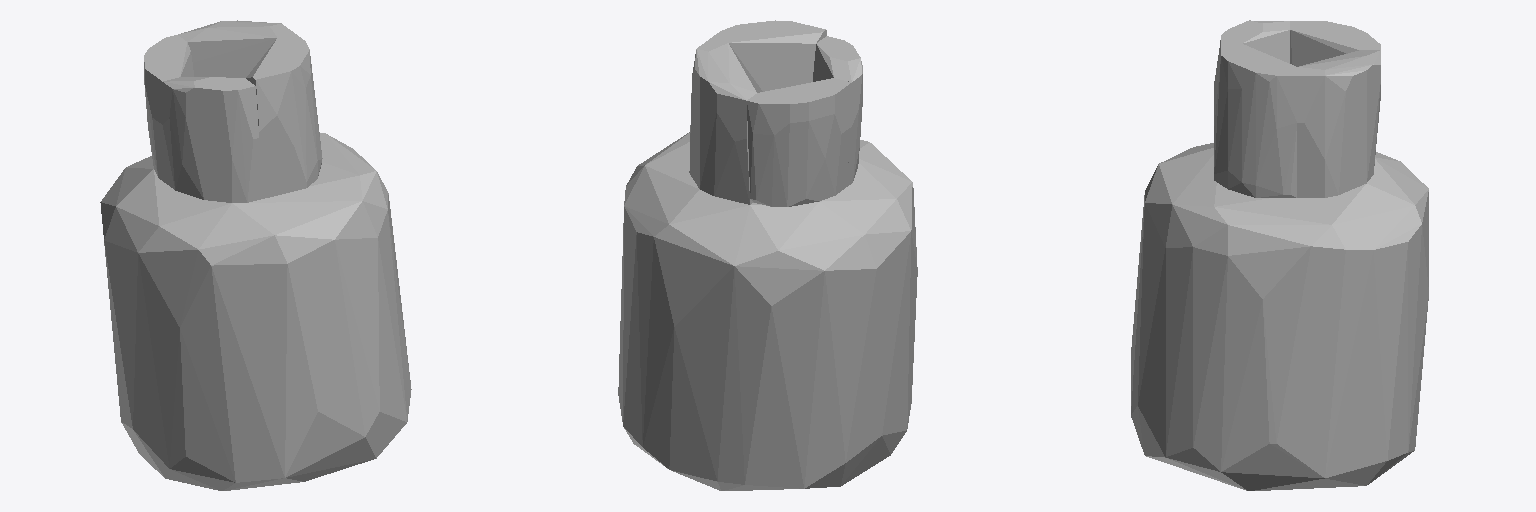
robot.urdf — root:
<robot name="root">
  <link name="link_thingiverse~arrow_knob_4200575_convex_piece_0">
    <inertial>
      <origin rpy="0 0 0" xyz="0 0 0"/>
      <mass value="2.13E-01"/>
      <inertia ixx="6.17E-05" ixy="-2.17E-07" ixz="-8.82E-07" iyy="6.17E-05" iyz="7.69E-07" izz="5.22E-05"/>
    </inertial>
    <visual>
      <origin rpy="0 0 0" xyz="0 0 0"/>
      <geometry>
        <mesh filename="thingiverse~arrow_knob_4200575_convex_piece_0.obj" scale="1.0000E+00 1.0000E+00 1.0000E+00"/>
      </geometry>
      <material name="">
        <color rgba="7.50E-01 7.50E-01 7.50E-01 1"/>
      </material>
    </visual>
    <collision>
      <origin rpy="0 0 0" xyz="0 0 0"/>
      <geometry>
        <mesh filename="thingiverse~arrow_knob_4200575_convex_piece_0.obj" scale="1.0000E+00 1.0000E+00 1.0000E+00"/>
      </geometry>
    </collision>
  </link>
  <link name="link_thingiverse~arrow_knob_4200575_convex_piece_1">
    <inertial>
      <origin rpy="0 0 0" xyz="0 0 0"/>
      <mass value="4.56E-03"/>
      <inertia ixx="4.86E-06" ixy="1.36E-07" ixz="-1.44E-06" iyy="5.24E-06" iyz="-5.09E-07" izz="5.72E-07"/>
    </inertial>
    <visual>
      <origin rpy="0 0 0" xyz="0 0 0"/>
      <geometry>
        <mesh filename="thingiverse~arrow_knob_4200575_convex_piece_1.obj" scale="1.0000E+00 1.0000E+00 1.0000E+00"/>
      </geometry>
      <material name="">
        <color rgba="7.50E-01 7.50E-01 7.50E-01 1"/>
      </material>
    </visual>
    <collision>
      <origin rpy="0 0 0" xyz="0 0 0"/>
      <geometry>
        <mesh filename="thingiverse~arrow_knob_4200575_convex_piece_1.obj" scale="1.0000E+00 1.0000E+00 1.0000E+00"/>
      </geometry>
    </collision>
  </link>
  <joint name="link_thingiverse~arrow_knob_4200575_convex_piece_1_joint" type="fixed">
    <origin rpy="0 0 0" xyz="0 0 0"/>
    <parent link="link_thingiverse~arrow_knob_4200575_convex_piece_0"/>
    <child link="link_thingiverse~arrow_knob_4200575_convex_piece_1"/>
  </joint>
  <link name="link_thingiverse~arrow_knob_4200575_convex_piece_2">
    <inertial>
      <origin rpy="0 0 0" xyz="0 0 0"/>
      <mass value="5.17E-03"/>
      <inertia ixx="5.77E-06" ixy="-4.07E-07" ixz="-1.68E-06" iyy="5.93E-06" iyz="1.37E-06" izz="9.86E-07"/>
    </inertial>
    <visual>
      <origin rpy="0 0 0" xyz="0 0 0"/>
      <geometry>
        <mesh filename="thingiverse~arrow_knob_4200575_convex_piece_2.obj" scale="1.0000E+00 1.0000E+00 1.0000E+00"/>
      </geometry>
      <material name="">
        <color rgba="7.50E-01 7.50E-01 7.50E-01 1"/>
      </material>
    </visual>
    <collision>
      <origin rpy="0 0 0" xyz="0 0 0"/>
      <geometry>
        <mesh filename="thingiverse~arrow_knob_4200575_convex_piece_2.obj" scale="1.0000E+00 1.0000E+00 1.0000E+00"/>
      </geometry>
    </collision>
  </link>
  <joint name="link_thingiverse~arrow_knob_4200575_convex_piece_2_joint" type="fixed">
    <origin rpy="0 0 0" xyz="0 0 0"/>
    <parent link="link_thingiverse~arrow_knob_4200575_convex_piece_1"/>
    <child link="link_thingiverse~arrow_knob_4200575_convex_piece_2"/>
  </joint>
  <link name="link_thingiverse~arrow_knob_4200575_convex_piece_3">
    <inertial>
      <origin rpy="0 0 0" xyz="0 0 0"/>
      <mass value="8.15E-03"/>
      <inertia ixx="8.85E-06" ixy="-1.79E-08" ixz="6.60E-07" iyy="8.84E-06" iyz="-9.45E-07" izz="3.74E-07"/>
    </inertial>
    <visual>
      <origin rpy="0 0 0" xyz="0 0 0"/>
      <geometry>
        <mesh filename="thingiverse~arrow_knob_4200575_convex_piece_3.obj" scale="1.0000E+00 1.0000E+00 1.0000E+00"/>
      </geometry>
      <material name="">
        <color rgba="7.50E-01 7.50E-01 7.50E-01 1"/>
      </material>
    </visual>
    <collision>
      <origin rpy="0 0 0" xyz="0 0 0"/>
      <geometry>
        <mesh filename="thingiverse~arrow_knob_4200575_convex_piece_3.obj" scale="1.0000E+00 1.0000E+00 1.0000E+00"/>
      </geometry>
    </collision>
  </link>
  <joint name="link_thingiverse~arrow_knob_4200575_convex_piece_3_joint" type="fixed">
    <origin rpy="0 0 0" xyz="0 0 0"/>
    <parent link="link_thingiverse~arrow_knob_4200575_convex_piece_2"/>
    <child link="link_thingiverse~arrow_knob_4200575_convex_piece_3"/>
  </joint>
  <link name="link_thingiverse~arrow_knob_4200575_convex_piece_4">
    <inertial>
      <origin rpy="0 0 0" xyz="0 0 0"/>
      <mass value="7.46E-03"/>
      <inertia ixx="8.62E-06" ixy="1.11E-07" ixz="5.81E-07" iyy="8.06E-06" iyz="2.21E-06" izz="8.63E-07"/>
    </inertial>
    <visual>
      <origin rpy="0 0 0" xyz="0 0 0"/>
      <geometry>
        <mesh filename="thingiverse~arrow_knob_4200575_convex_piece_4.obj" scale="1.0000E+00 1.0000E+00 1.0000E+00"/>
      </geometry>
      <material name="">
        <color rgba="7.50E-01 7.50E-01 7.50E-01 1"/>
      </material>
    </visual>
    <collision>
      <origin rpy="0 0 0" xyz="0 0 0"/>
      <geometry>
        <mesh filename="thingiverse~arrow_knob_4200575_convex_piece_4.obj" scale="1.0000E+00 1.0000E+00 1.0000E+00"/>
      </geometry>
    </collision>
  </link>
  <joint name="link_thingiverse~arrow_knob_4200575_convex_piece_4_joint" type="fixed">
    <origin rpy="0 0 0" xyz="0 0 0"/>
    <parent link="link_thingiverse~arrow_knob_4200575_convex_piece_3"/>
    <child link="link_thingiverse~arrow_knob_4200575_convex_piece_4"/>
  </joint>
</robot>

--- What the picture shows (computed from the rendered views, not written in the file) ---
Views: 3 orthographic renders of the robot side by side, from view 1: azimuth 30°, elevation 25°; view 2: azimuth 150°, elevation 25°; view 3: azimuth 270°, elevation 25°.
Model root with 5 links and 4 joints (4 fixed), rooted at link_thingiverse~arrow_knob_4200575_convex_piece_0, posed all joints at 0.
Visible links, largest first — view 1: link_thingiverse~arrow_knob_4200575_convex_piece_0, link_thingiverse~arrow_knob_4200575_convex_piece_1, link_thingiverse~arrow_knob_4200575_convex_piece_3, link_thingiverse~arrow_knob_4200575_convex_piece_4, link_thingiverse~arrow_knob_4200575_convex_piece_2; view 2: link_thingiverse~arrow_knob_4200575_convex_piece_0, link_thingiverse~arrow_knob_4200575_convex_piece_2, link_thingiverse~arrow_knob_4200575_convex_piece_4, link_thingiverse~arrow_knob_4200575_convex_piece_3, link_thingiverse~arrow_knob_4200575_convex_piece_1; view 3: link_thingiverse~arrow_knob_4200575_convex_piece_0, link_thingiverse~arrow_knob_4200575_convex_piece_3, link_thingiverse~arrow_knob_4200575_convex_piece_4, link_thingiverse~arrow_knob_4200575_convex_piece_2, link_thingiverse~arrow_knob_4200575_convex_piece_1.
Link boxes in pixels (x1=…): link_thingiverse~arrow_knob_4200575_convex_piece_0: x1=100, y1=133, x2=411, y2=490; link_thingiverse~arrow_knob_4200575_convex_piece_1: x1=163, y1=77, x2=258, y2=202; link_thingiverse~arrow_knob_4200575_convex_piece_3: x1=246, y1=34, x2=322, y2=199; link_thingiverse~arrow_knob_4200575_convex_piece_4: x1=178, y1=20, x2=294, y2=77; link_thingiverse~arrow_knob_4200575_convex_piece_2: x1=144, y1=35, x2=194, y2=184; link_thingiverse~arrow_knob_4200575_convex_piece_0: x1=618, y1=132, x2=917, y2=490; link_thingiverse~arrow_knob_4200575_convex_piece_2: x1=747, y1=78, x2=851, y2=206; link_thingiverse~arrow_knob_4200575_convex_piece_4: x1=689, y1=39, x2=756, y2=204; link_thingiverse~arrow_knob_4200575_convex_piece_3: x1=710, y1=20, x2=826, y2=92; link_thingiverse~arrow_knob_4200575_convex_piece_1: x1=813, y1=36, x2=862, y2=186; link_thingiverse~arrow_knob_4200575_convex_piece_0: x1=1131, y1=143, x2=1428, y2=490; link_thingiverse~arrow_knob_4200575_convex_piece_3: x1=1214, y1=38, x2=1296, y2=197; link_thingiverse~arrow_knob_4200575_convex_piece_4: x1=1297, y1=50, x2=1380, y2=197; link_thingiverse~arrow_knob_4200575_convex_piece_2: x1=1290, y1=21, x2=1380, y2=66; link_thingiverse~arrow_knob_4200575_convex_piece_1: x1=1220, y1=20, x2=1289, y2=63.
Bounding box of the posed robot: 0.047 × 0.0459 × 0.0684 m (x, y, z).
5 mesh visuals loaded from 5 distinct referenced files (5 OBJ).
